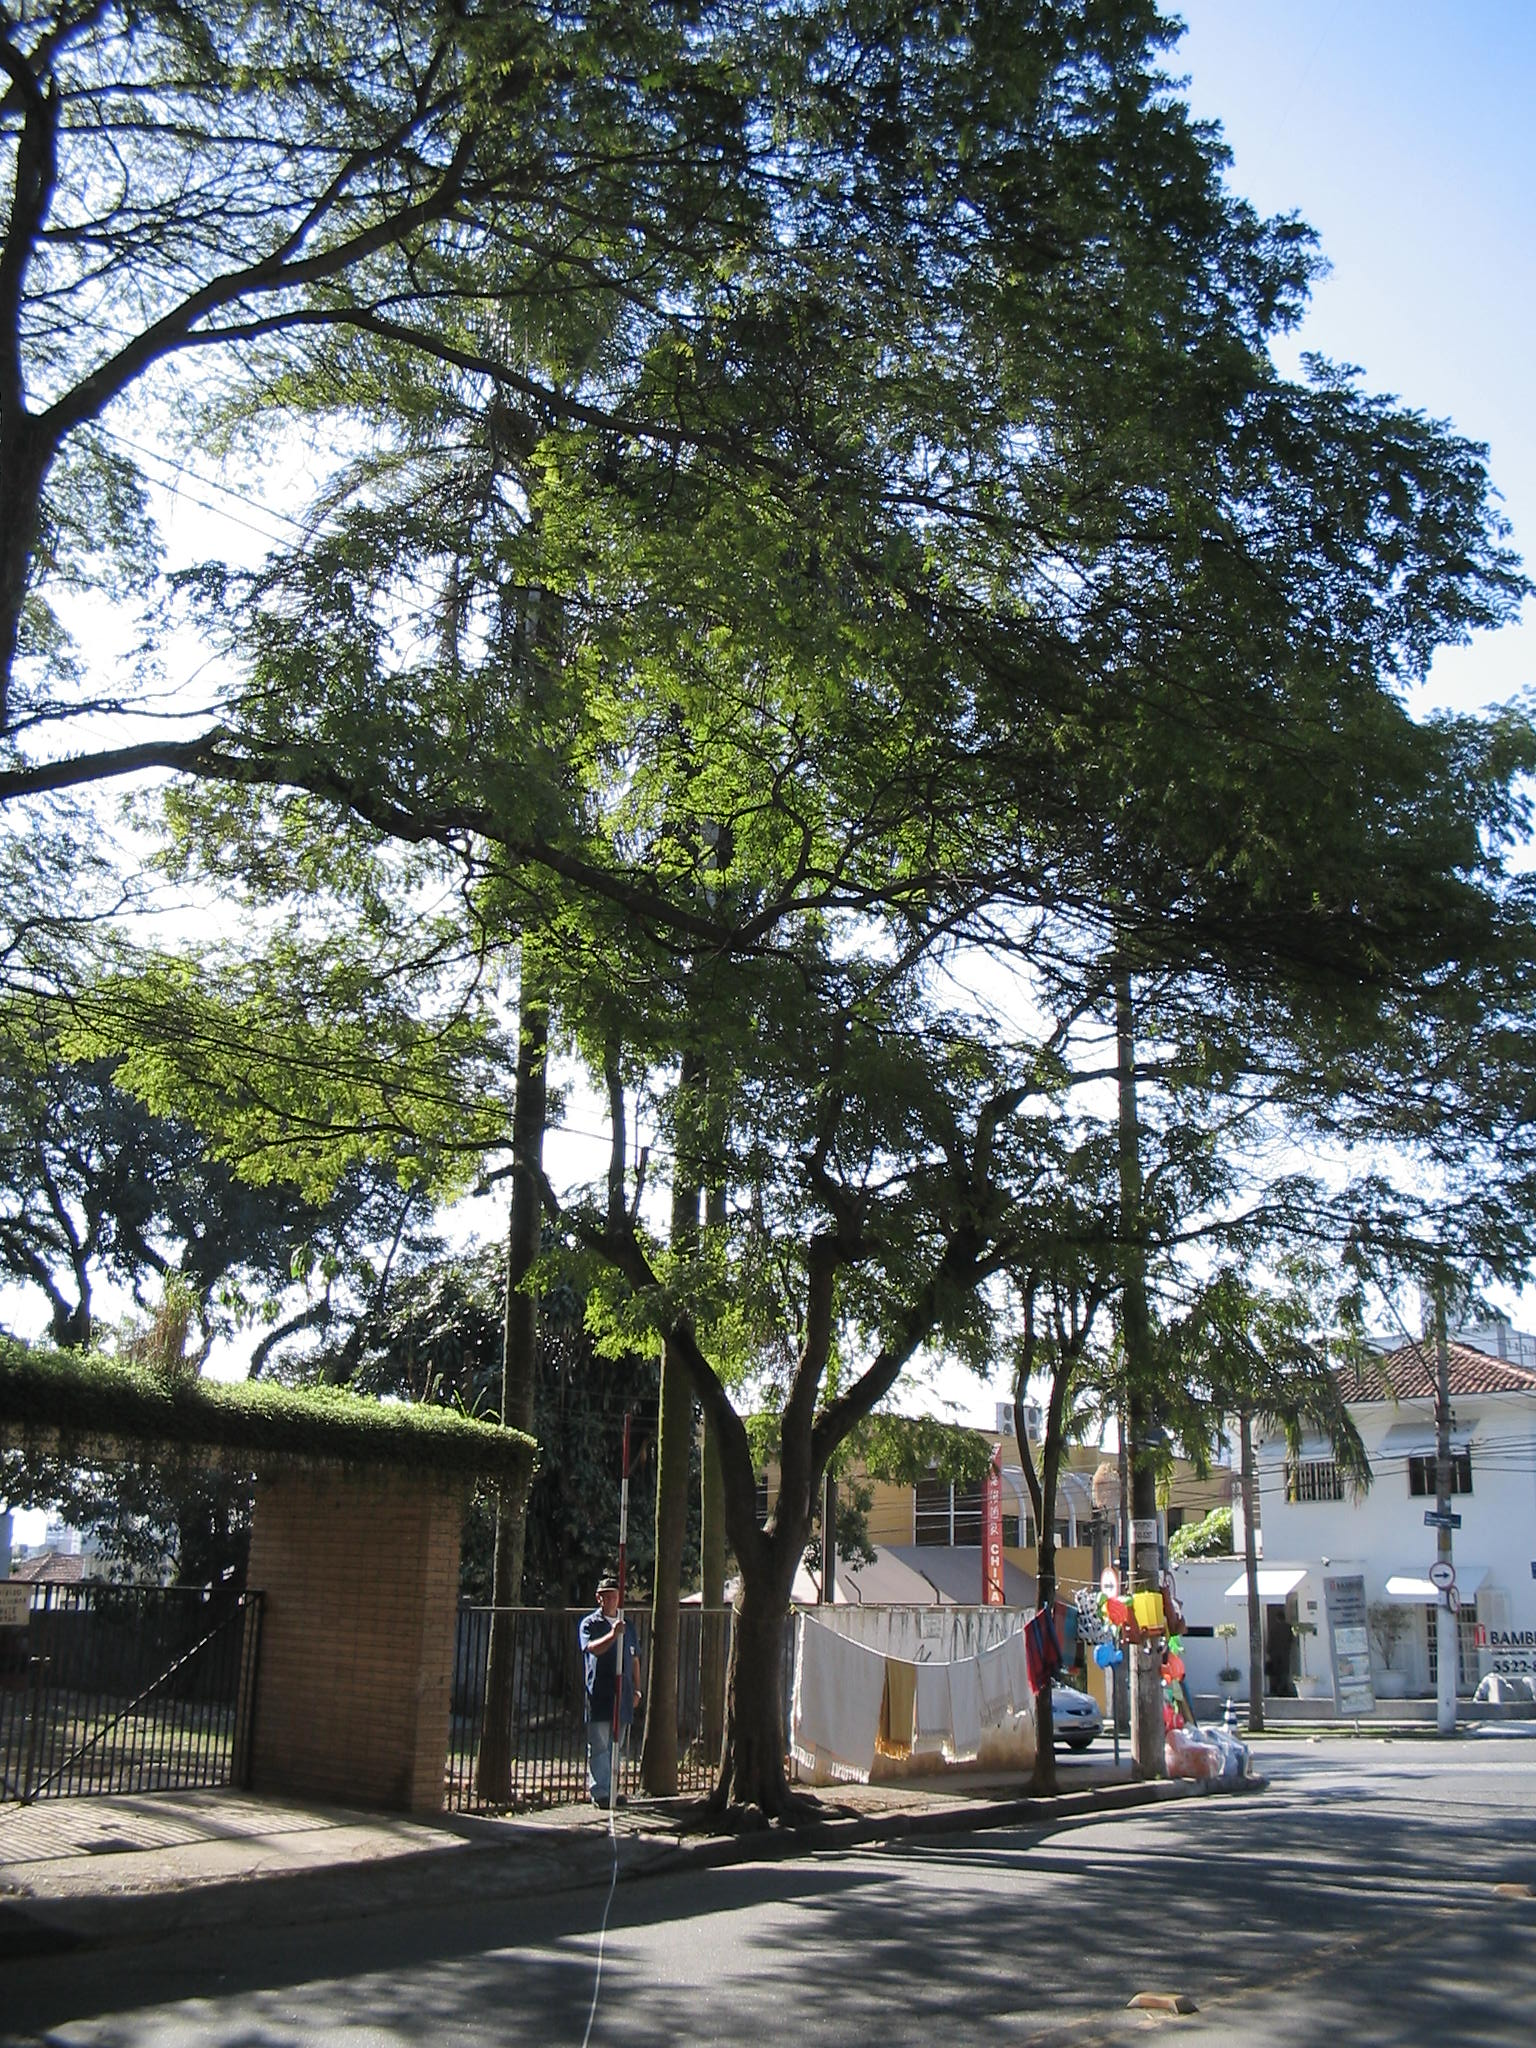crown: (19, 181, 1533, 1490)
stem: (700, 1546, 820, 1819)
stick: (599, 1414, 641, 1838)
tree: (6, 173, 1530, 1822)
